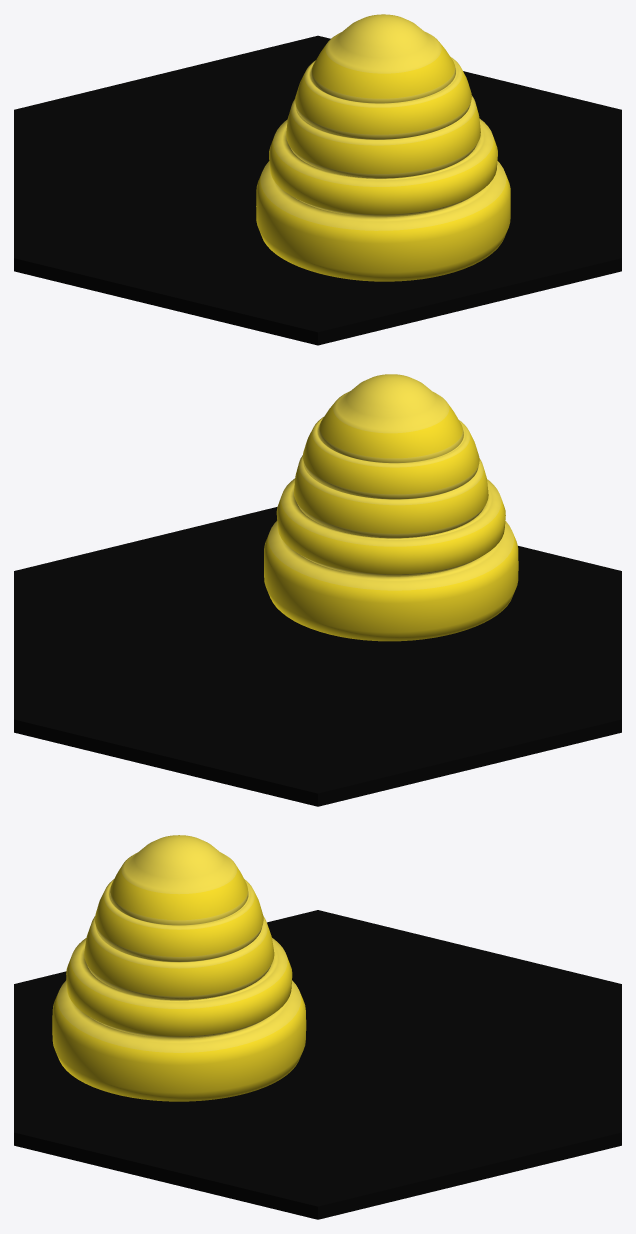
Rendered from NewHive.FBX.
3 renders of one model, top to bottom at view 1: azimuth 30°, elevation 25°; view 2: azimuth 150°, elevation 25°; view 3: azimuth 270°, elevation 25°, orthographic.
Parts seen in each view (by area): view 1: NewHive; view 2: NewHive; view 3: NewHive.
Part boxes in pixels (<box>): NewHive: <box>14,14,621,345</box>; NewHive: <box>14,374,621,806</box>; NewHive: <box>14,835,621,1219</box>.
Bounding box in the file's own units: 102 × 47.28 × 88.39.
